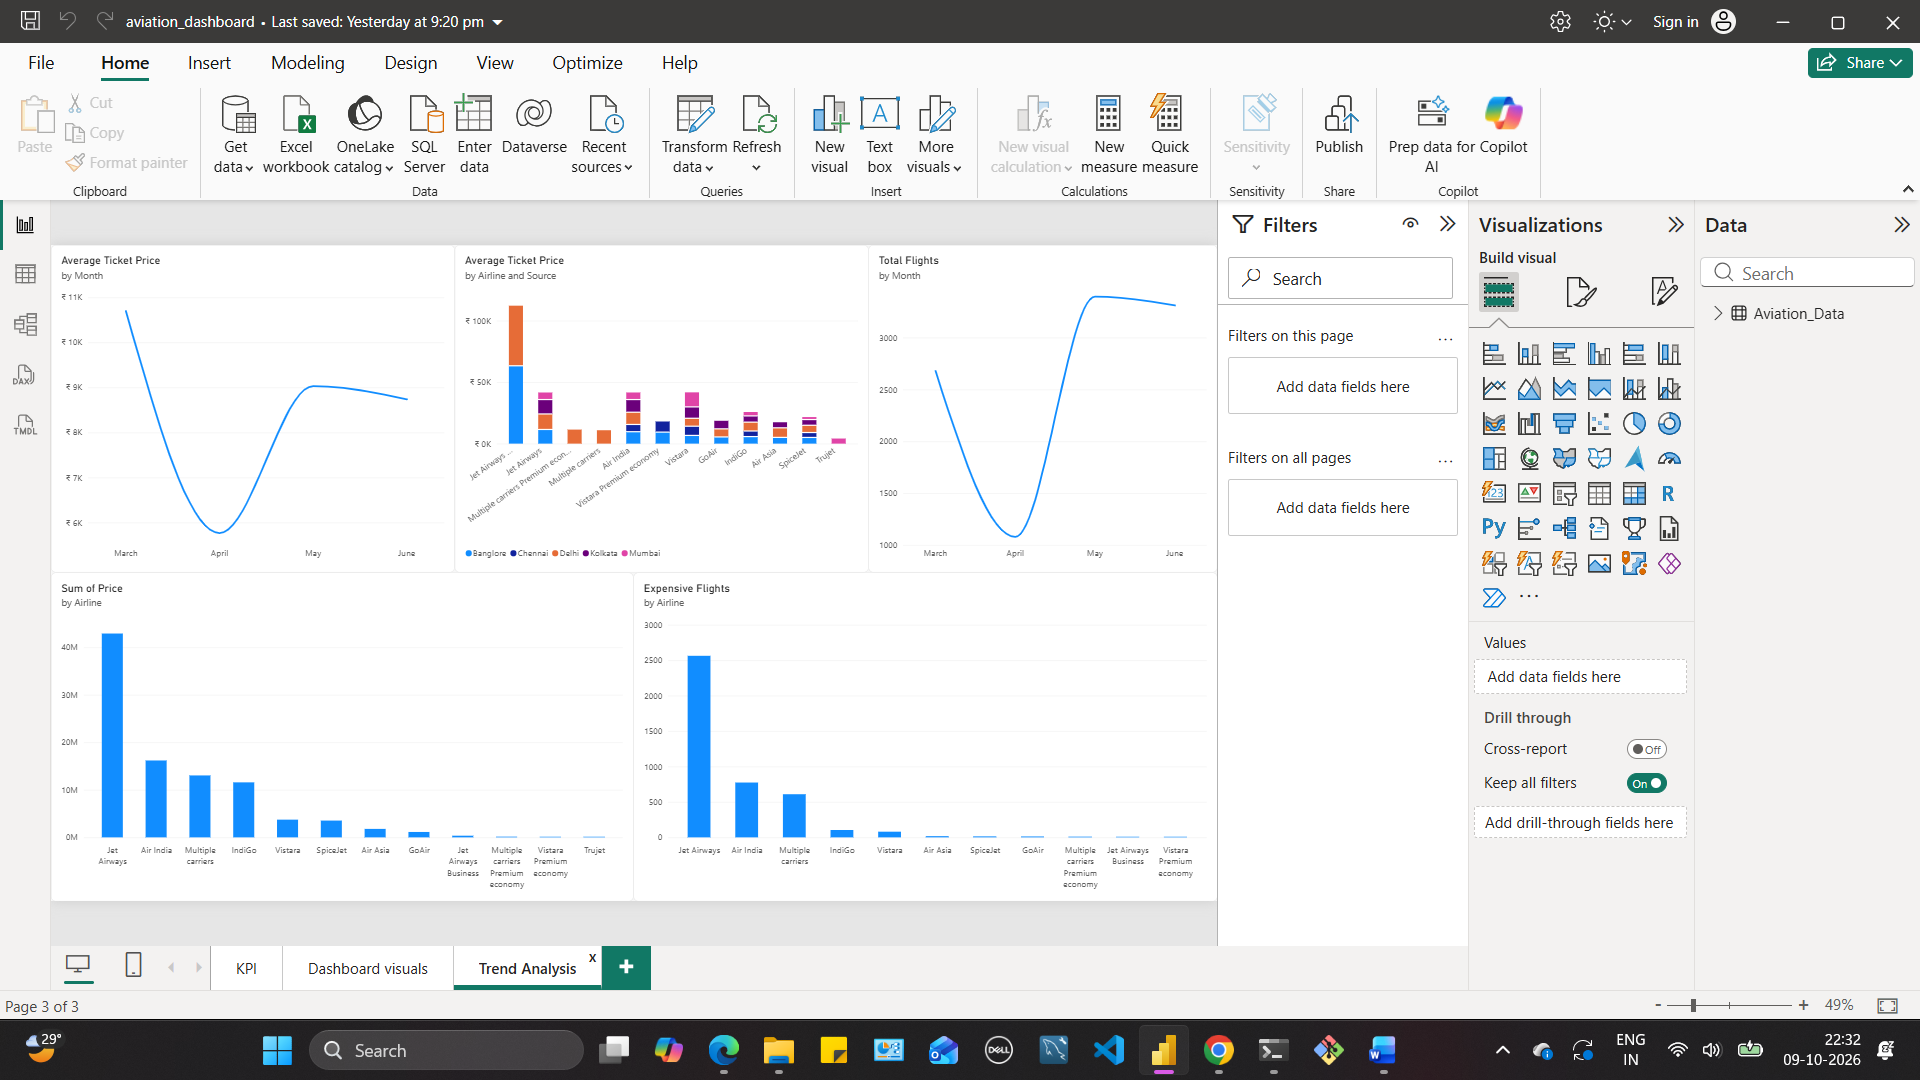

Layout of this report page (visuals, bound fields, positions):
{"tool":"powerbi","page":{"name":"Trend Analysis","canvas":[1920,1080],"ordinal":2},"visuals":[{"type":"lineChart","fields":{"Category":["Aviation_Data.Date_of_Journey.Variation.Date Hierarchy.Month"],"Y":["Aviation_Data.Average Ticket Price"]},"box":[0,0,664.8,539.3],"z":0},{"type":"lineChart","fields":{"Category":["Aviation_Data.Date_of_Journey.Variation.Date Hierarchy.Month"],"Y":["Aviation_Data.Total Flights"]},"box":[1346.1,0,574.3,539.3],"z":1},{"type":"columnChart","fields":{"Category":["Aviation_Data.Airline"],"Y":["Sum(Aviation_Data.Price)"]},"box":[0,539.3,959.2,541.3],"z":2},{"type":"columnChart","fields":{"Category":["Aviation_Data.Airline"],"Series":["Aviation_Data.Source"],"Y":["Aviation_Data.Average Ticket Price"]},"box":[664.8,0,681.3,539.3],"z":3},{"type":"columnChart","fields":{"Category":["Aviation_Data.Airline"],"Y":["Aviation_Data.Expensive Flights"]},"box":[959.2,539.3,961.2,541.3],"z":4}]}

Visuals, with their boxes on the page's 1920x1080 design canvas (x1, y1, x2, y2). These are canvas units, not pixel positions in the 1920x1080 screenshot, which may show the page scaled, cropped or inside an application window:
lineChart - Aviation_Data.Date_of_Journey.Variation.Date Hierarchy.Month x Aviation_Data.Average Ticket Price: bbox=[0, 0, 665, 539]
lineChart - Aviation_Data.Date_of_Journey.Variation.Date Hierarchy.Month x Aviation_Data.Total Flights: bbox=[1346, 0, 1920, 539]
columnChart - Aviation_Data.Airline x Sum(Aviation_Data.Price): bbox=[0, 539, 959, 1081]
columnChart - Aviation_Data.Airline x Aviation_Data.Source: bbox=[665, 0, 1346, 539]
columnChart - Aviation_Data.Airline x Aviation_Data.Expensive Flights: bbox=[959, 539, 1920, 1081]
